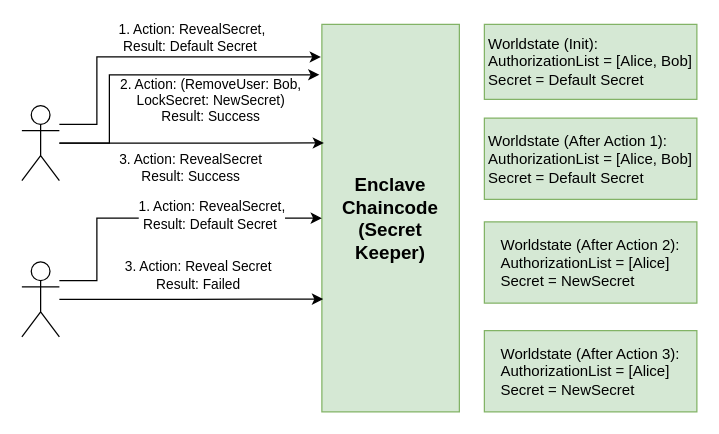
Some shapes in this 719 by 434 pixel diagram are drawn without their labels. The box of each missing label's shape, as (x1, y1, x2, y2) in pixels:
Alice: (21, 104, 59, 181)
Bob: (21, 261, 59, 337)
